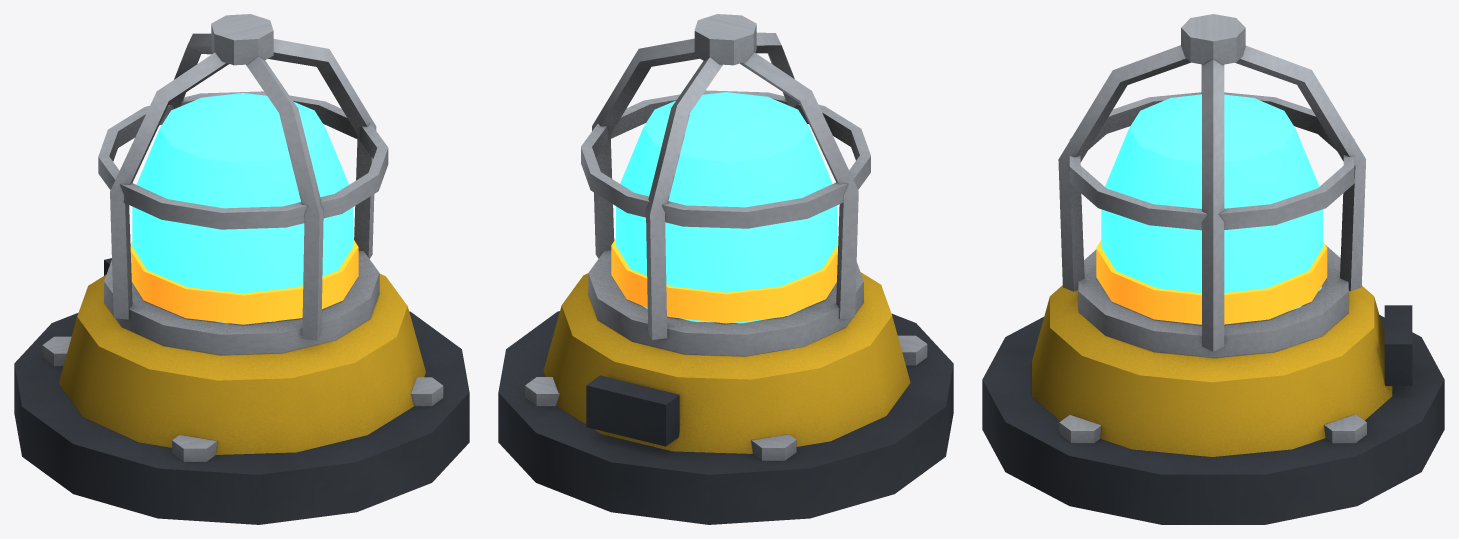
Rendered from luz_baliza_hangar.fbx.
3 renders of one model, left to right at view 1: azimuth 30°, elevation 25°; view 2: azimuth 150°, elevation 25°; view 3: azimuth 270°, elevation 25°, orthographic.
Parts seen in each view (by area): view 1: luz_baliza_hangar, luz_baliza_hangar_neon, luz_baliza_hangar_naranja_neon; view 2: luz_baliza_hangar, luz_baliza_hangar_neon, luz_baliza_hangar_naranja_neon; view 3: luz_baliza_hangar, luz_baliza_hangar_neon, luz_baliza_hangar_naranja_neon.
Part boxes in pixels (x1,y1,x2,y2): luz_baliza_hangar: (14, 14, 469, 524); luz_baliza_hangar_neon: (132, 93, 353, 323); luz_baliza_hangar_naranja_neon: (130, 239, 358, 324); luz_baliza_hangar: (498, 14, 953, 524); luz_baliza_hangar_neon: (616, 92, 836, 323); luz_baliza_hangar_naranja_neon: (611, 238, 838, 323); luz_baliza_hangar: (982, 14, 1444, 524); luz_baliza_hangar_neon: (1101, 94, 1323, 320); luz_baliza_hangar_naranja_neon: (1096, 240, 1327, 324).
Bounding box in the file's own units: 0.4875 × 0.4802 × 0.5.
2 materials, 2 textured.
